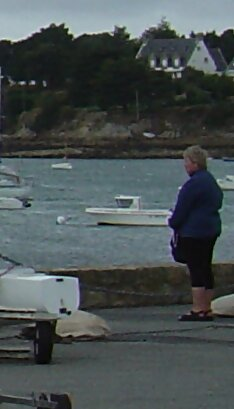person: (167, 147, 234, 321)
